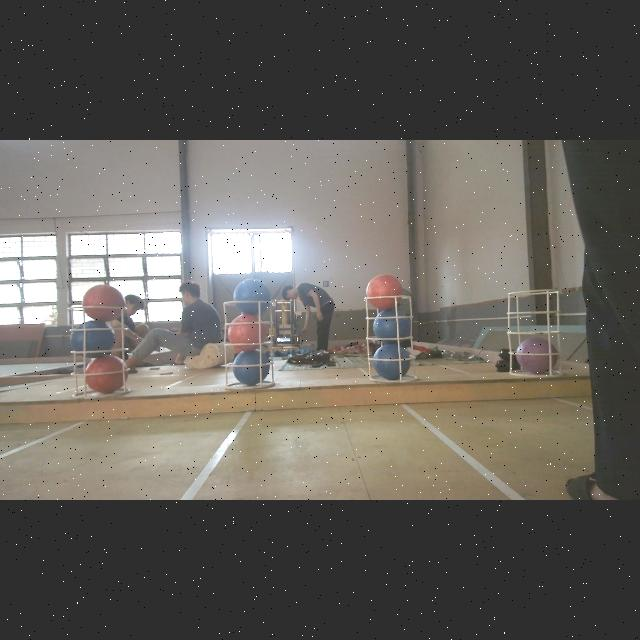B: (70, 320, 116, 358), (372, 344, 410, 381), (372, 308, 410, 344), (233, 279, 271, 315), (232, 350, 270, 384)
R: (84, 356, 128, 394), (82, 285, 125, 321), (228, 314, 266, 350), (366, 274, 402, 310)
